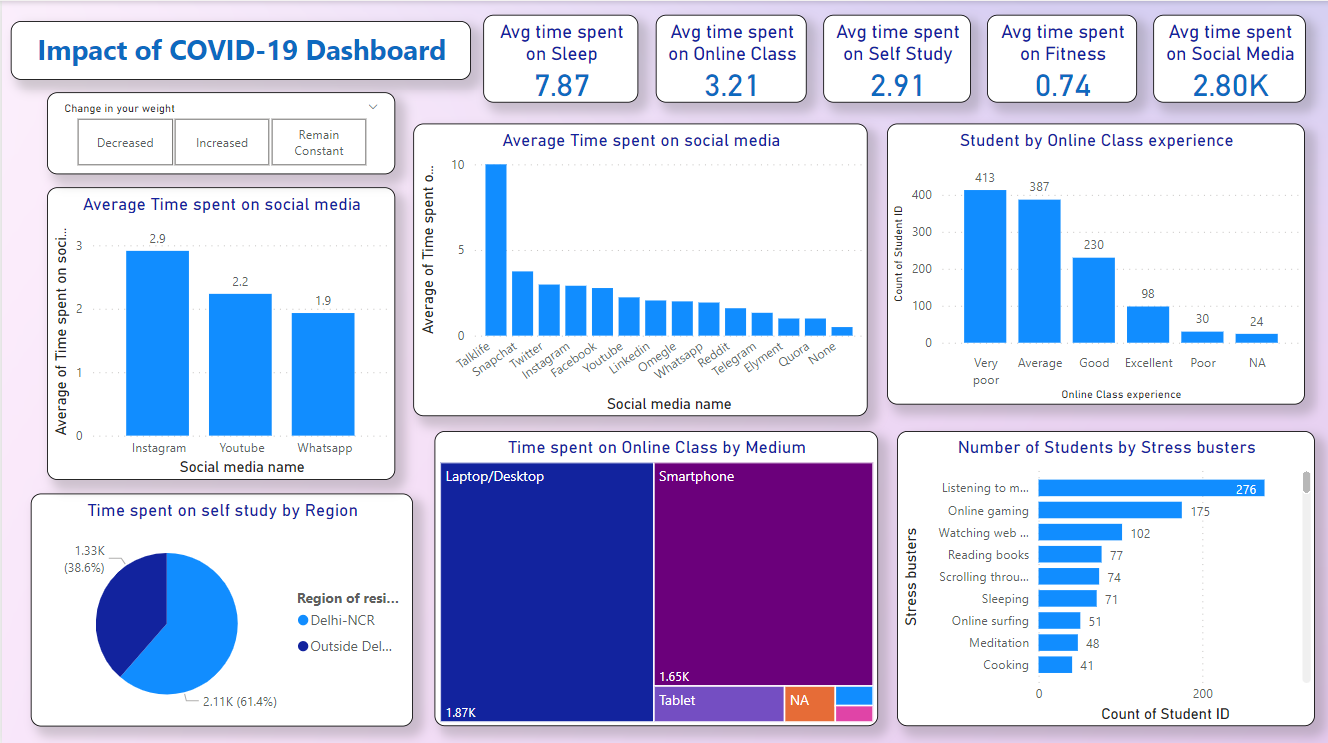

The page's visual inventory and layout, read from the dashboard file:
{"tool":"powerbi","page":{"name":"Page 1","canvas":[1280,720],"ordinal":0},"visuals":[{"type":"textbox","box":[8.4,19.3,443.8,56.7],"z":0},{"type":"card","title":"Avg time spent on Sleep","fields":{"Values":["Student_Survey.Time spent on sleep"]},"box":[464.3,13.3,149.5,84.4],"z":1000},{"type":"card","title":"Avg time spent on Online Class","fields":{"Values":["Student_Survey.Time spent on Online Class"]},"box":[630.8,13.3,145.9,84.4],"z":2000},{"type":"card","title":"Avg time spent on Self Study","fields":{"Values":["Student_Survey.Time spent on self study"]},"box":[792.4,13.3,142.3,84.4],"z":3000},{"type":"card","title":"Avg time spent on Fitness","fields":{"Values":["Student_Survey.Time spent on fitness"]},"box":[950.4,13.3,144.7,84.4],"z":4000},{"type":"card","title":"Avg time spent on Social Media","fields":{"Values":["Student_Survey.Time spent on social media"]},"box":[1110.8,13.3,147.1,84.4],"z":5000},{"type":"clusteredColumnChart","title":"Average Time spent on social media","fields":{"Y":["Student_Survey.Time spent on social media"],"Category":["Student_Survey.Social media name"]},"box":[396.2,117.9,438.7,282.4],"z":6000},{"type":"clusteredColumnChart","title":"Student by Online Class experience","fields":{"Y":["Student_Survey.Student ID"],"Category":["Student_Survey.Online Class experience"]},"box":[854.2,117.9,403.1,271.5],"z":6001},{"type":"treemap","title":"Time spent on Online Class by Medium","fields":{"Details":["Student_Survey.Medium for online class"],"Values":["Student_Survey.Time spent on Online Class"]},"box":[416.8,415.4,427.8,285.2],"z":6002},{"type":"pieChart","title":"Time spent on self study by Region","fields":{"Y":["Student_Survey.Time spent on self study"],"Category":["Student_Survey.Region of residence"]},"box":[27.4,475.8,368.8,224.9],"z":6003},{"type":"clusteredBarChart","title":"Number of Students by Stress busters","fields":{"Y":["Student_Survey.Student ID"],"Category":["Student_Survey.Stress busters"]},"box":[863.8,415.4,403.1,285.2],"z":6004},{"type":"clusteredColumnChart","title":"Average Time spent on social media","fields":{"Y":["Student_Survey.Time spent on social media"],"Category":["Student_Survey.Social media name"]},"box":[43.9,179.6,335.9,282.4],"z":6005},{"type":"slicer","fields":{"Values":["Student_Survey.Change in your weight"]},"box":[43.9,87.7,335.9,79.5],"z":6006}]}

Visuals, with their boxes in screenshot pixels (x1, y1, x2, y2), scaled from the page's 1280x720 canvas onto the 1328x743 screenshot:
textbox: [x1=9, y1=20, x2=469, y2=78]
"Avg time spent on Sleep" card: [x1=482, y1=14, x2=637, y2=101]
"Avg time spent on Online Class" card: [x1=654, y1=14, x2=806, y2=101]
"Avg time spent on Self Study" card: [x1=822, y1=14, x2=970, y2=101]
"Avg time spent on Fitness" card: [x1=986, y1=14, x2=1136, y2=101]
"Avg time spent on Social Media" card: [x1=1152, y1=14, x2=1305, y2=101]
"Average Time spent on social media" clusteredColumnChart: [x1=411, y1=122, x2=866, y2=413]
"Student by Online Class experience" clusteredColumnChart: [x1=886, y1=122, x2=1304, y2=402]
"Time spent on Online Class by Medium" treemap: [x1=432, y1=429, x2=876, y2=723]
"Time spent on self study by Region" pieChart: [x1=28, y1=491, x2=411, y2=723]
"Number of Students by Stress busters" clusteredBarChart: [x1=896, y1=429, x2=1314, y2=723]
"Average Time spent on social media" clusteredColumnChart: [x1=46, y1=185, x2=394, y2=477]
slicer - Student_Survey.Change in your weight: [x1=46, y1=91, x2=394, y2=173]
